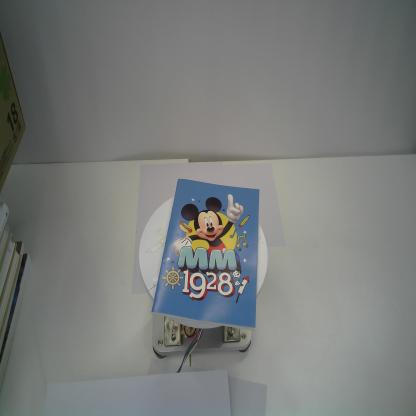Stationery: (151, 178, 260, 331)
